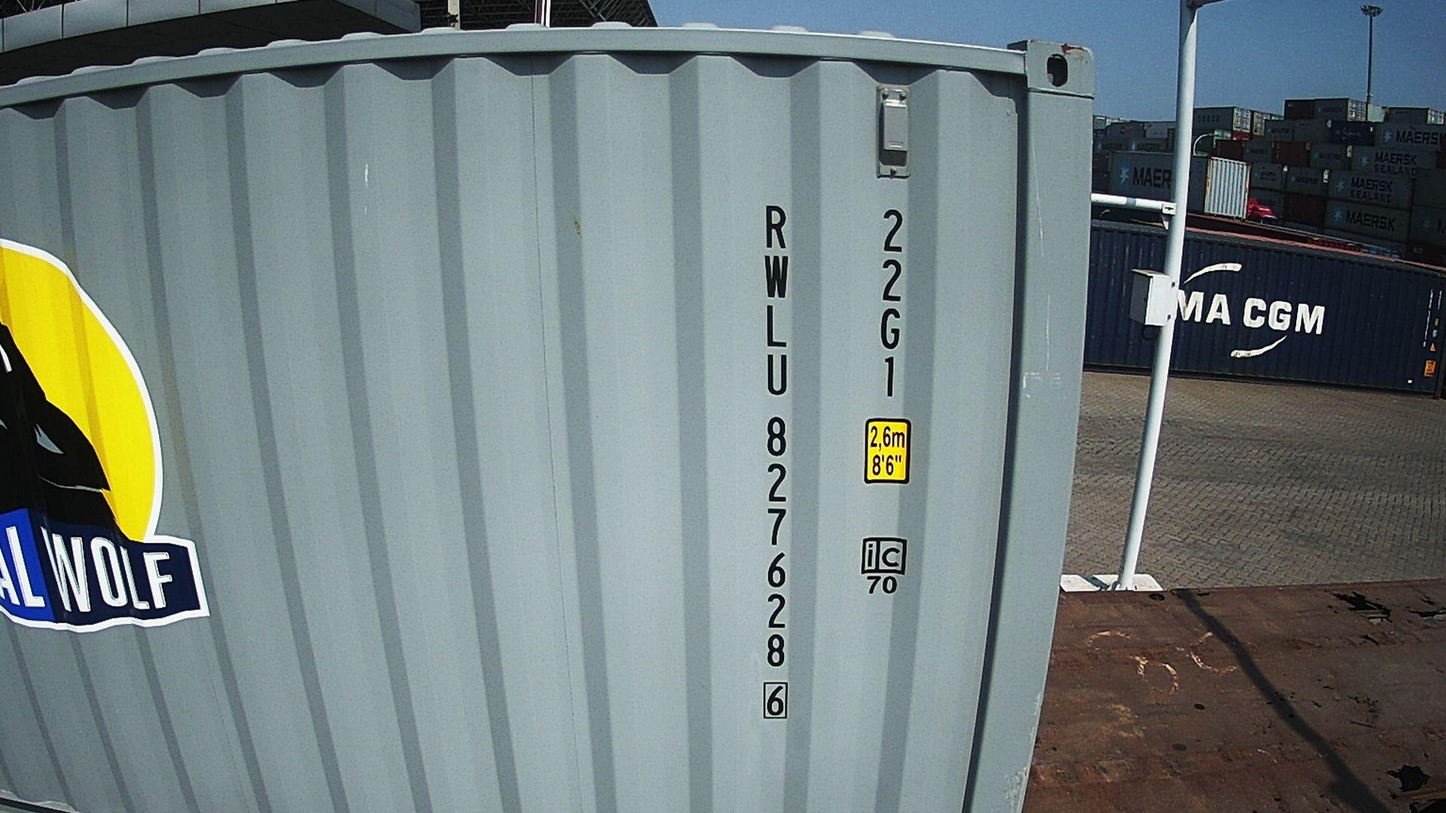container-numbers: (752, 201, 801, 726), (871, 203, 913, 403)
